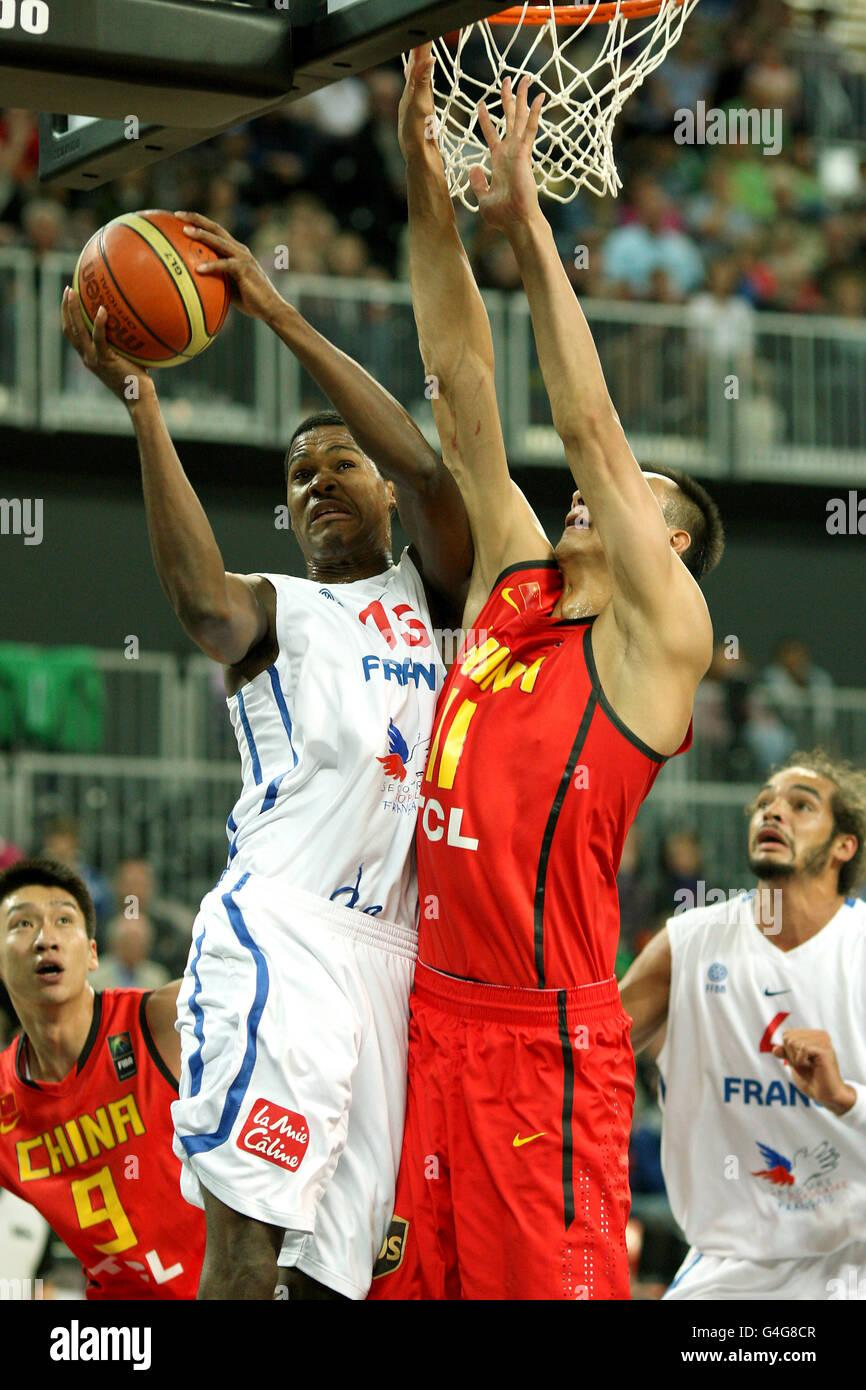basketball: (76, 202, 232, 370)
